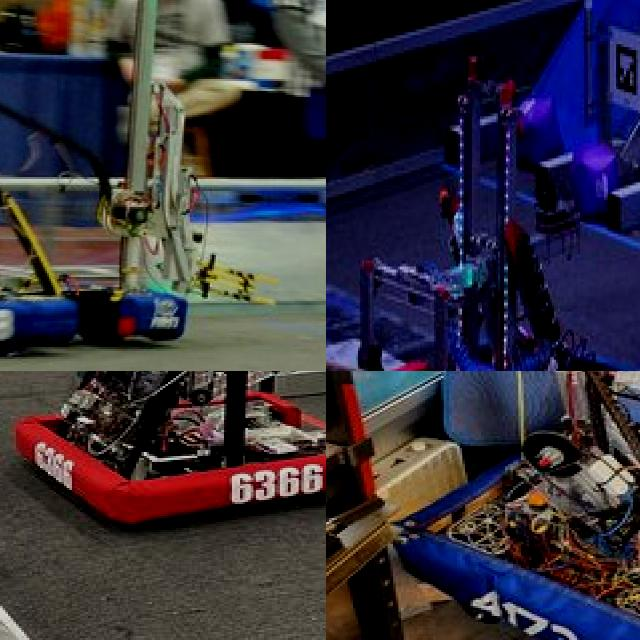FRC-Robots: (341, 46, 640, 371), (0, 0, 245, 358), (409, 371, 640, 640), (7, 371, 326, 526)
